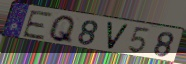5: (128, 25, 151, 54)
8: (154, 31, 176, 58), (78, 20, 100, 46)
E: (21, 10, 55, 41)
Q: (47, 15, 77, 45)
V: (105, 20, 131, 52)
